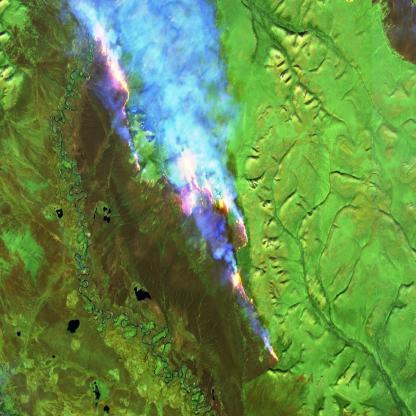fire: (81, 1, 286, 416)
